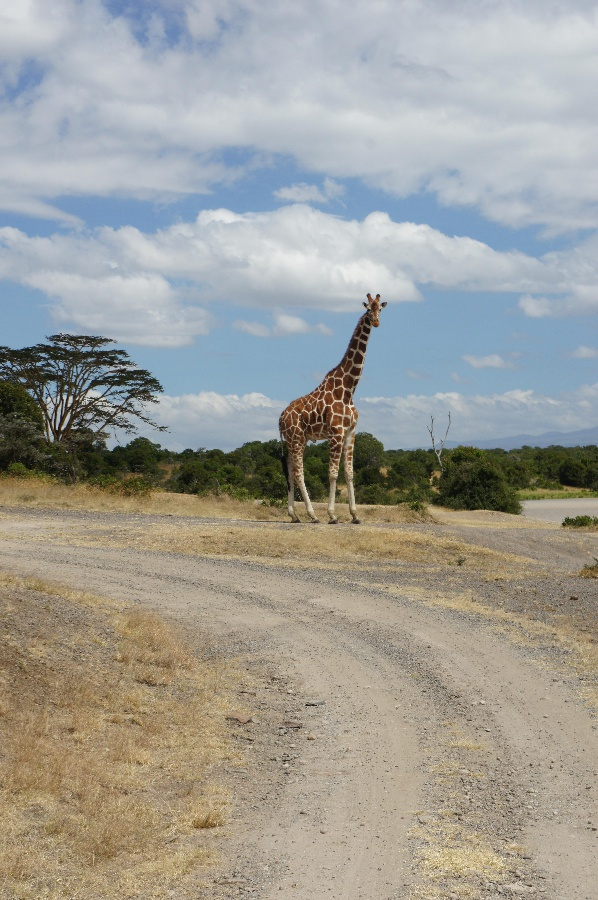giraffe: (264, 286, 391, 530)
